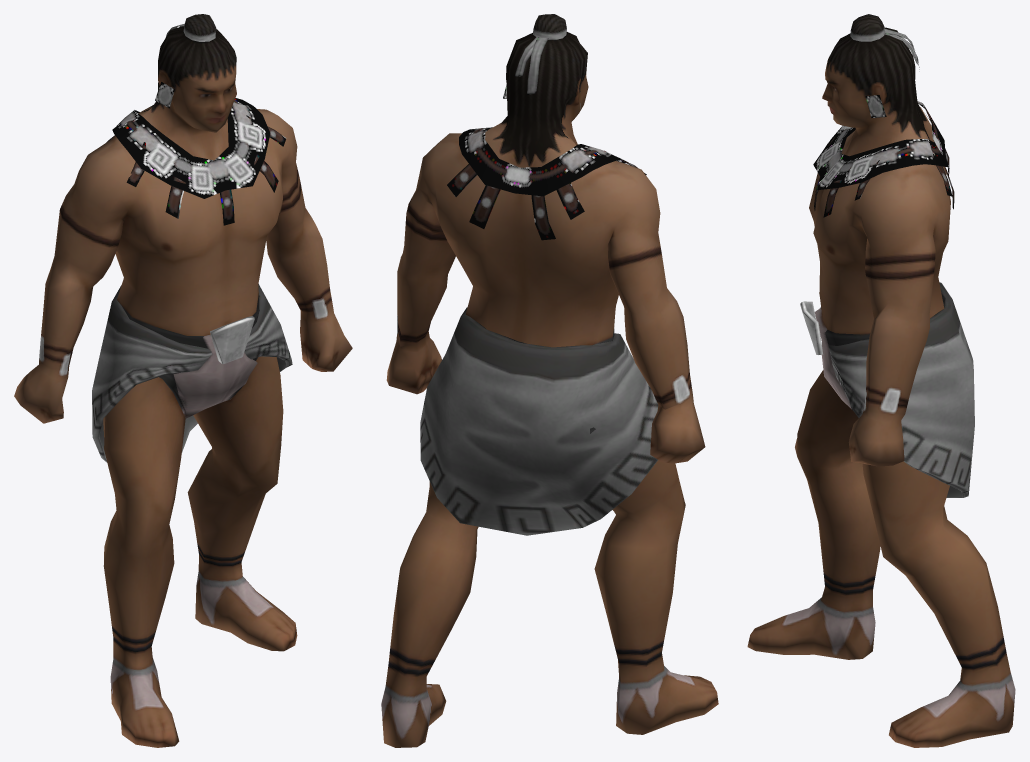
File: body-base.glb
3 renders of one model, left to right at view 1: azimuth 30°, elevation 25°; view 2: azimuth 150°, elevation 25°; view 3: azimuth 270°, elevation 25°, orthographic. The views are drawn at different scales.
Size of the model in its own units: 1 by 2.03 by 0.7351.
1 material, 1 textured.
